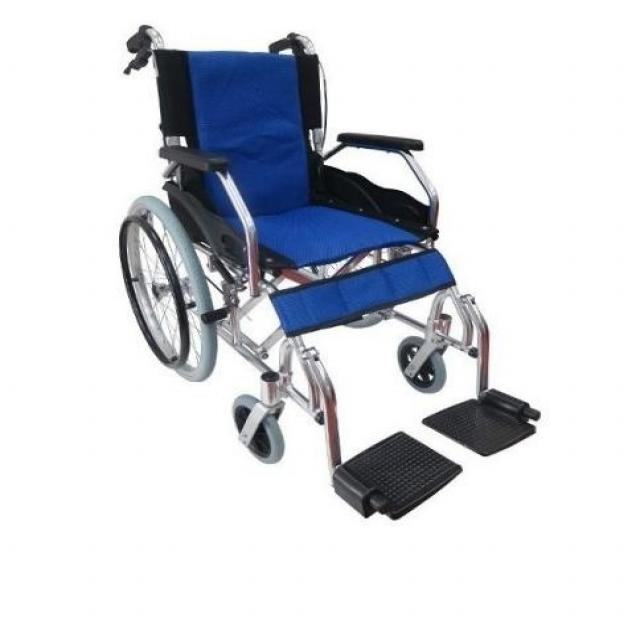wheelchair: (107, 14, 558, 534)
